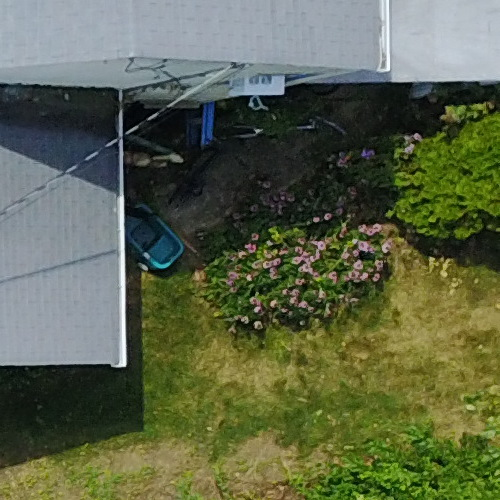container: (111, 197, 194, 281)
